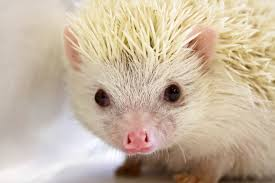hedgehog: (62, 1, 274, 183)
